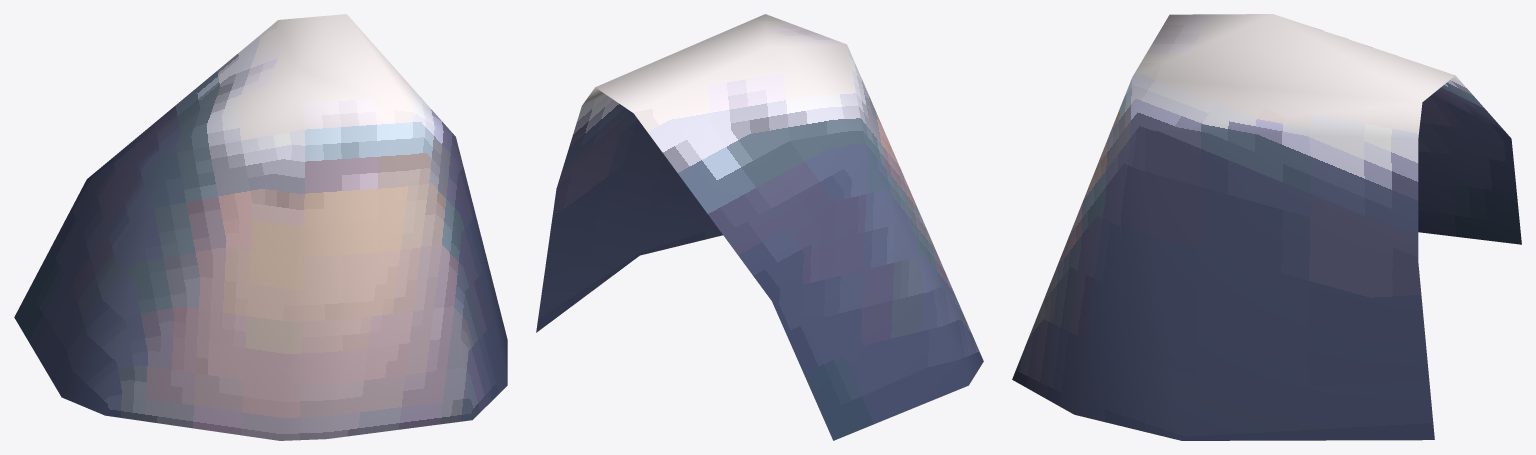
The model's file is fg_stoneB.dae.
The picture shows the model from 3 angles, left to right: view 1: azimuth 30°, elevation 25°; view 2: azimuth 150°, elevation 25°; view 3: azimuth 270°, elevation 25°; orthographic projection. The views are drawn at different scales.
Visible parts, largest first — view 1: fg_stoneB; view 2: fg_stoneB; view 3: fg_stoneB.
Boxes of the visible parts, left/top/right/bottom form: fg_stoneB: left=14, top=14, right=507, bottom=440; fg_stoneB: left=536, top=14, right=983, bottom=440; fg_stoneB: left=1012, top=14, right=1521, bottom=440.
Size of the model in its own units: 30.9 by 21.41 by 29.93.
Materials: 1 (1 with a texture image).
